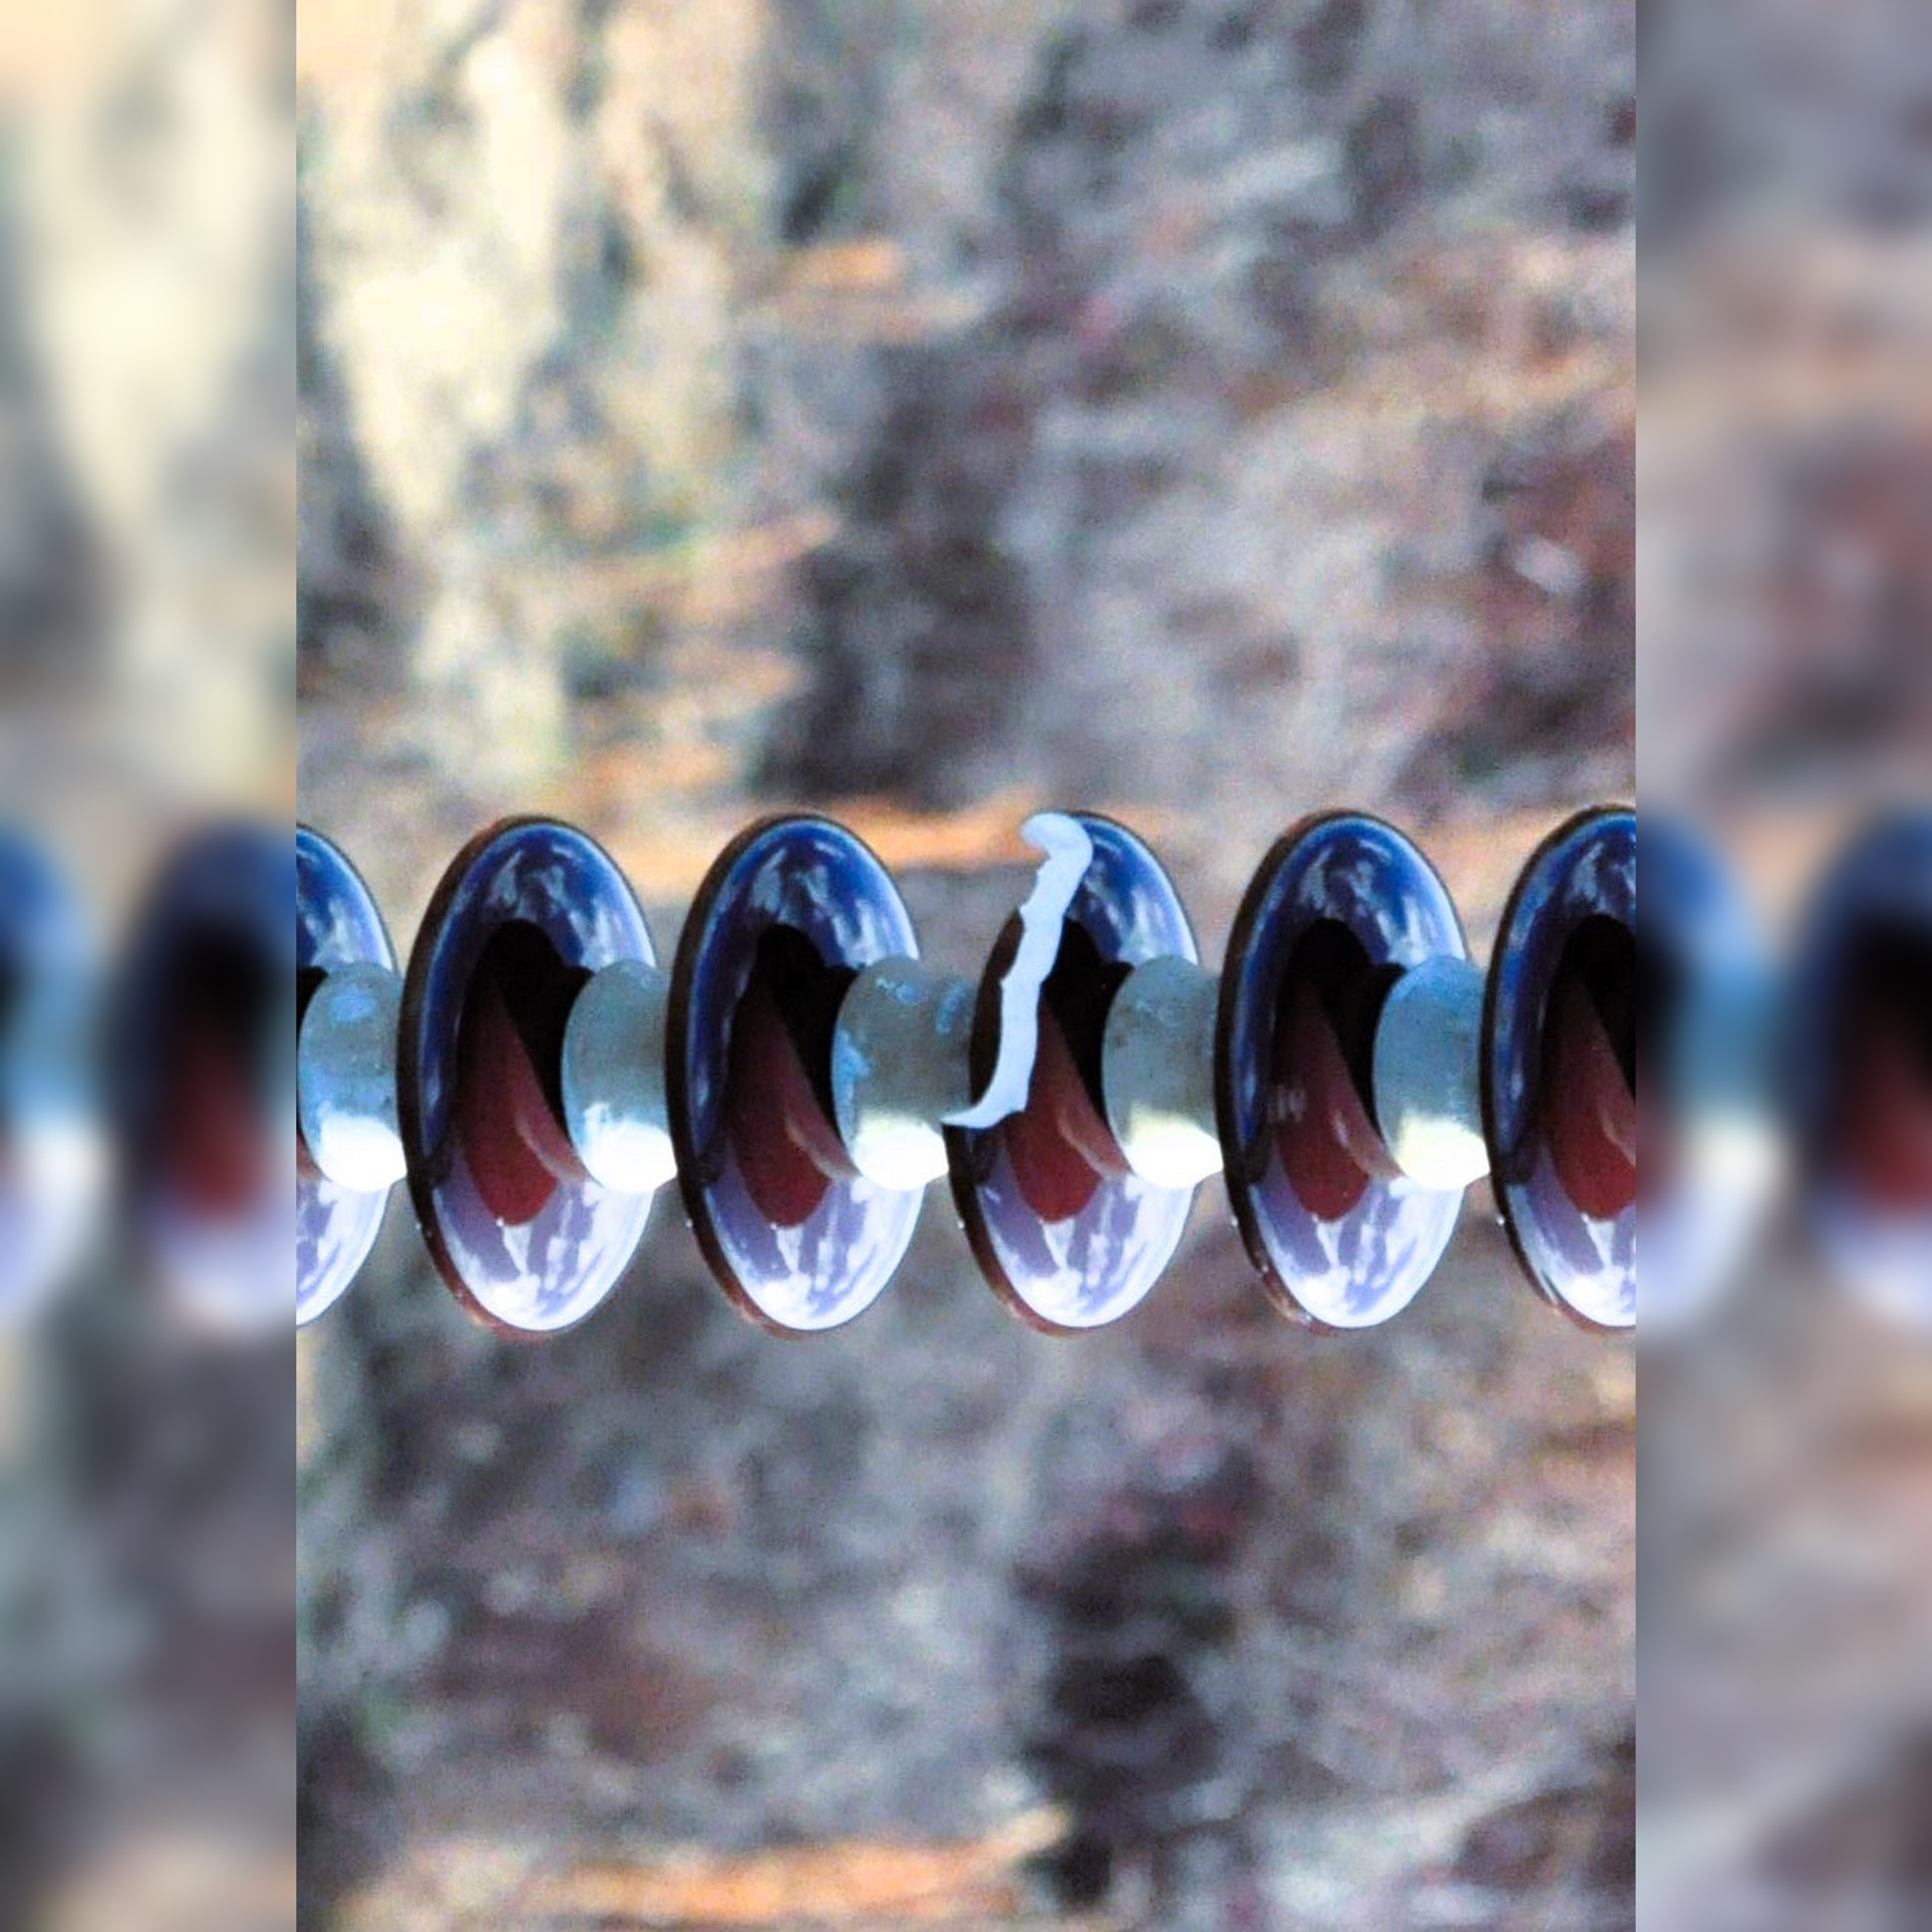insulator breakage: (931, 782, 1226, 1343)
